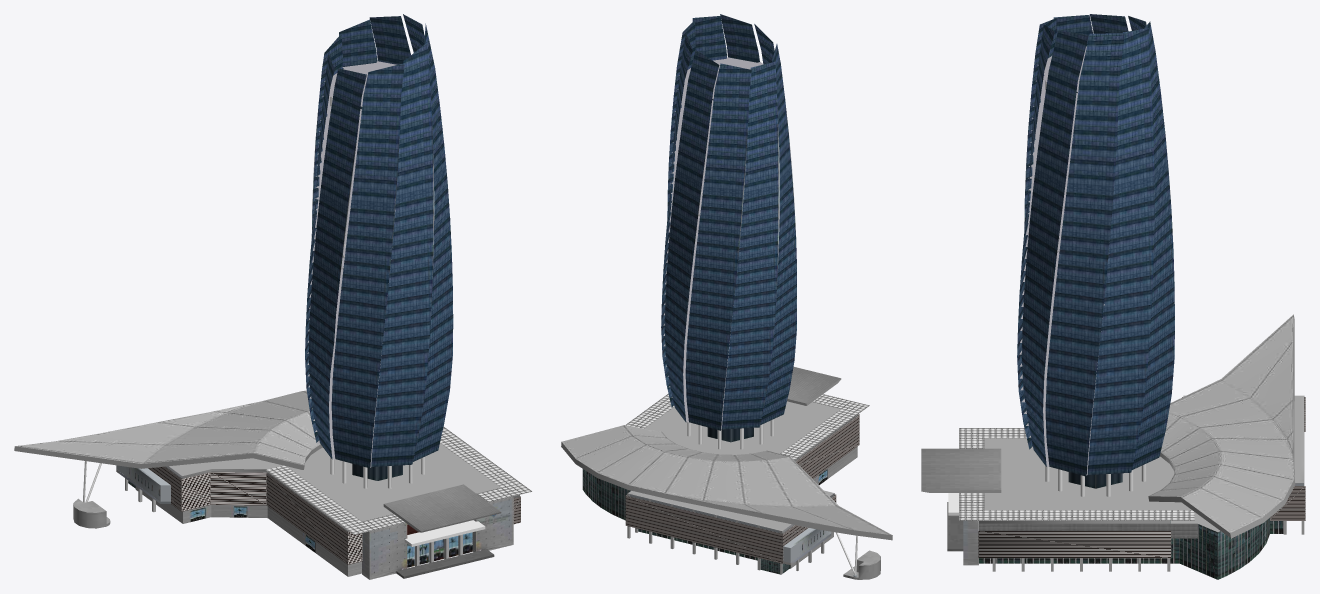
3 renders of one model, left to right at view 1: azimuth 30°, elevation 25°; view 2: azimuth 150°, elevation 25°; view 3: azimuth 270°, elevation 25°, orthographic. The views are drawn at different scales.
Parts seen in each view (by area): view 1: 5a685ebbe406ad3f0cc17755.021; view 2: 5a685ebbe406ad3f0cc17755.021; view 3: 5a685ebbe406ad3f0cc17755.021.
Boxes of the visible parts, x1,y1,x2,y2 form: 5a685ebbe406ad3f0cc17755.021: [14, 14, 532, 579]; 5a685ebbe406ad3f0cc17755.021: [561, 14, 892, 579]; 5a685ebbe406ad3f0cc17755.021: [921, 14, 1305, 579].
Bounding box in the file's own units: 132 × 157 × 106.
1 material, 1 textured.
